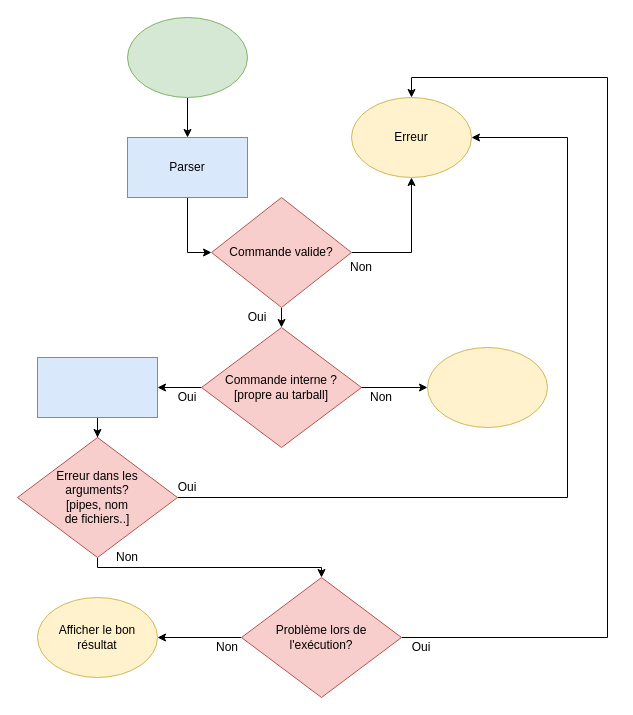
Image size: 633x715. Some labels were removed from this diagram. Each missing label, with the centre of its shape:
Commande écrite dans le shell: the point at 187,57
Démarrer le processus associé en dehors: the point at 487,387
Interpreter: the point at 97,387
